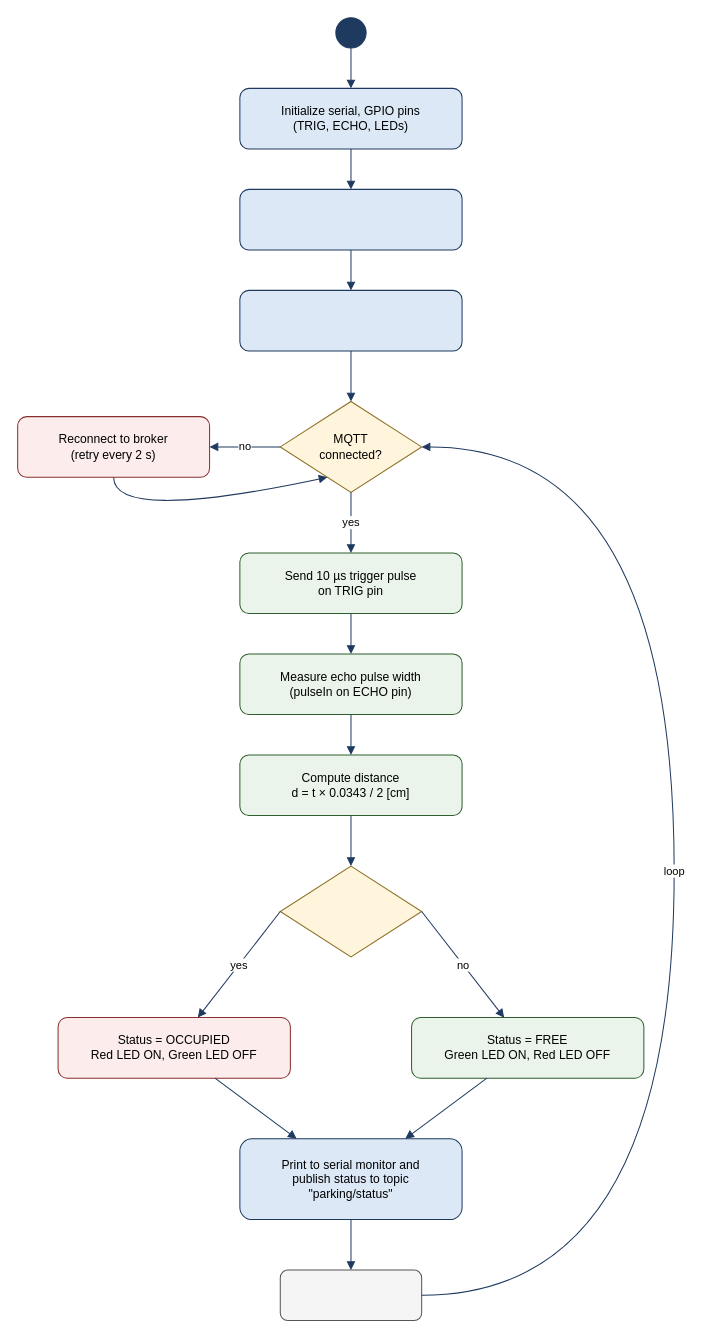
This 702x1338 diagram has some shape labels left out. The shapes that lost their labels are listed below. From the top down, each one's centre as x and y in pixels, then its label:
[350,219]: Connect to Wi-Fi (Vodafone-2ED3)
[350,320]: Configure MQTT server (192.168.0.53 : 1883)
[350,911]: distance < 10 cm?
[350,1295]: Wait 1 s
